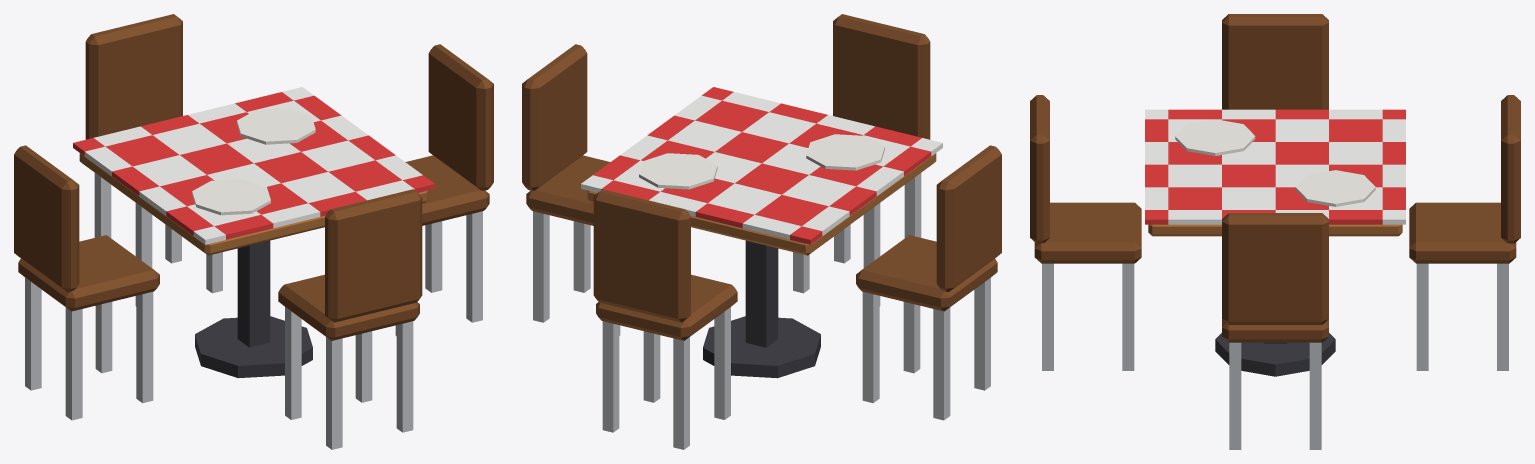
The model's file is CheckeredTable4.fbx.
The picture shows the model from 3 angles, left to right: view 1: azimuth 30°, elevation 25°; view 2: azimuth 150°, elevation 25°; view 3: azimuth 270°, elevation 25°; orthographic projection.
Parts seen in each view (by area): view 1: CheckeredTable4; view 2: CheckeredTable4; view 3: CheckeredTable4.
Boxes of the visible parts, x1,y1,x2,y2 form: CheckeredTable4: [14, 14, 493, 449]; CheckeredTable4: [522, 14, 1001, 449]; CheckeredTable4: [1030, 14, 1520, 449].
Size of the model in its own units: 7.34 by 3.9 by 7.34.
1 material, 1 textured.
